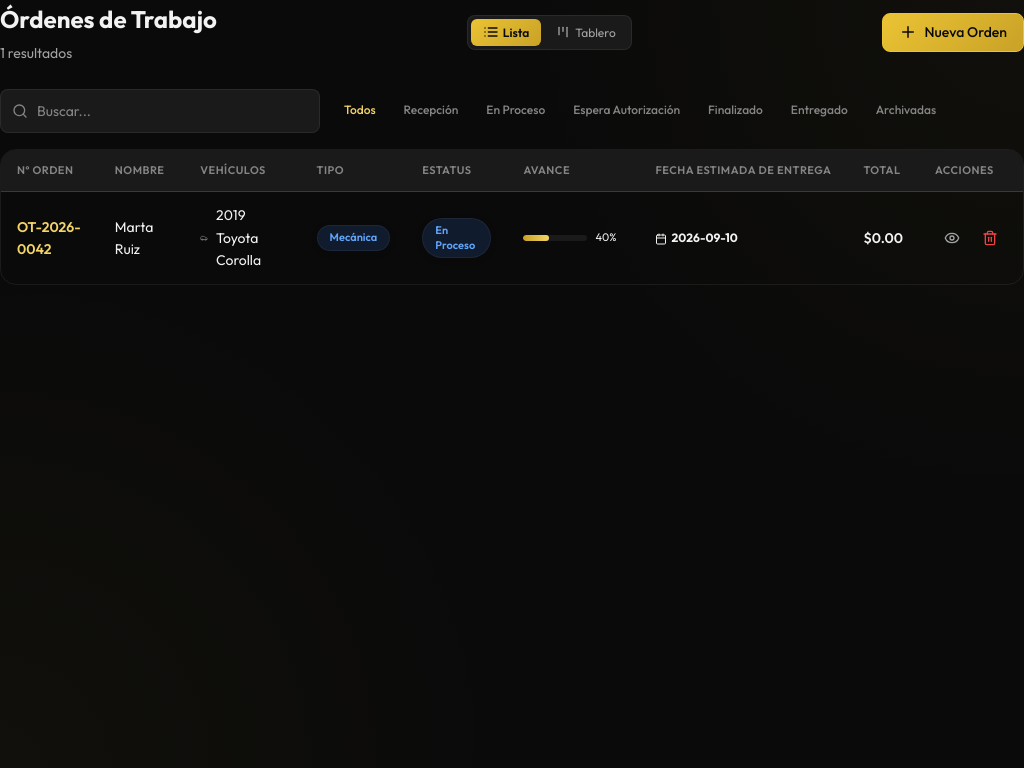
WorkOrders — inspección 360 en el alta › ofrece foto, video, nota de voz y galería antes de crear la orden
Click the button "Nueva Orden" at (953, 32), box [882, 13, 1023, 52]
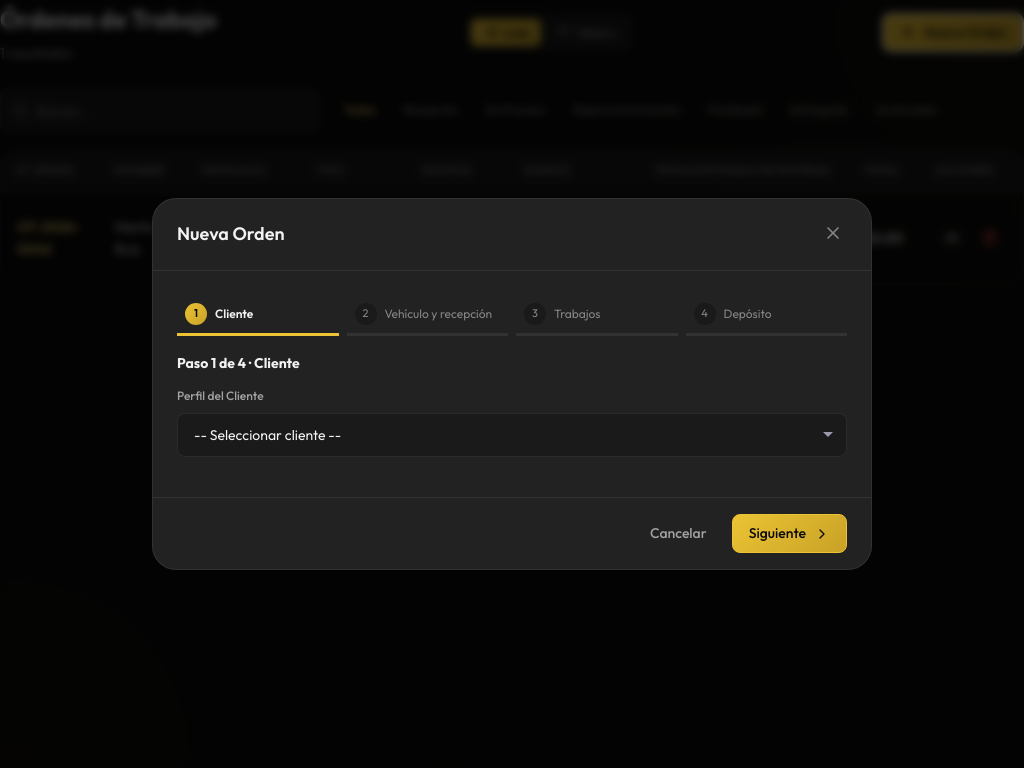
Select "Marta Ruiz" in the dropdown with id "intake-customer" at (512, 435), box [177, 413, 847, 457]
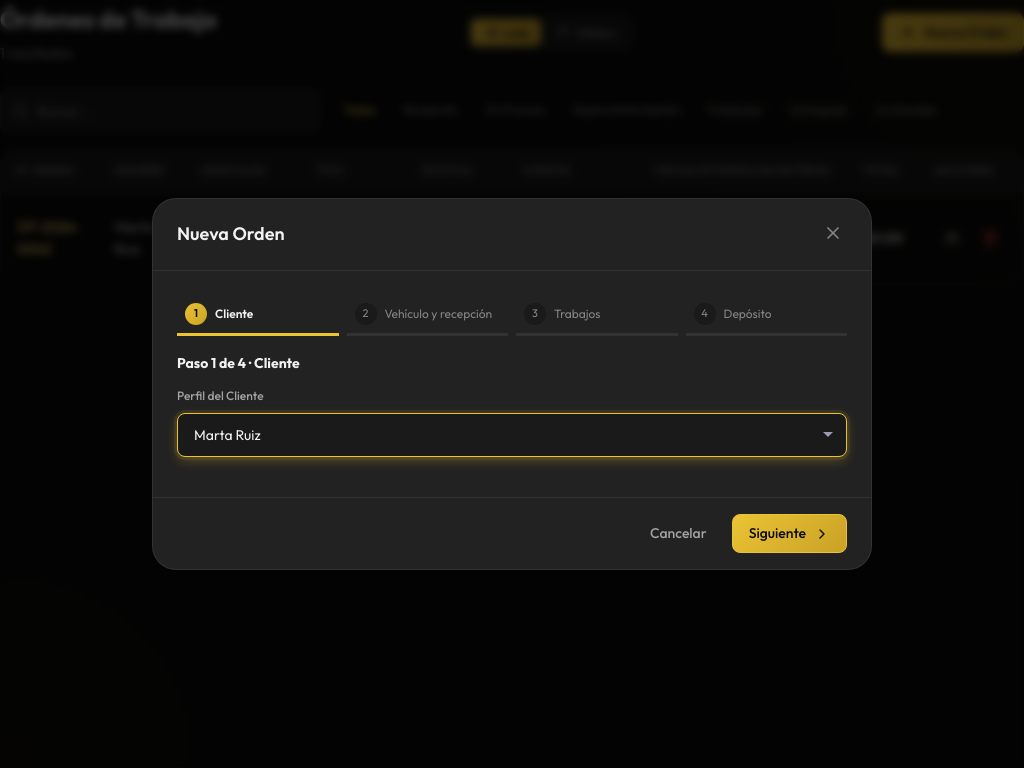
Click the button "Siguiente" at (789, 534), box [732, 514, 847, 553]
(page scrolled)
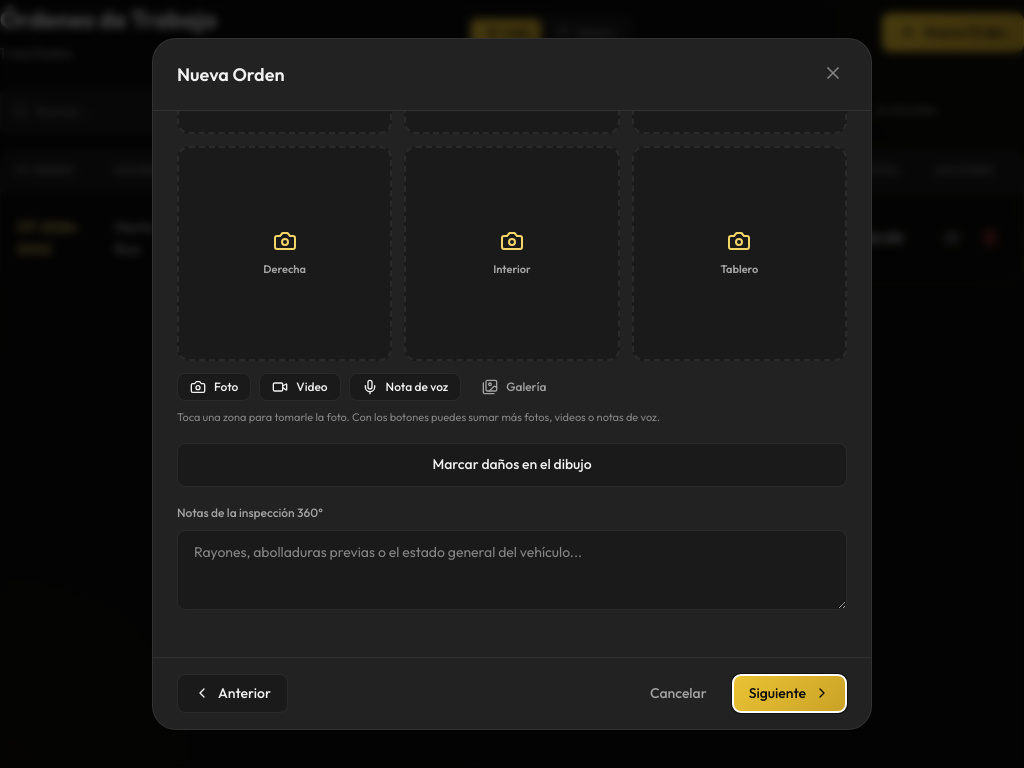
Expected: the button "Foto" is shown, [177, 373, 251, 401]
Expected: the button "Video" is shown, [259, 373, 341, 401]
Expected: the button "Nota de voz" is shown, [349, 373, 461, 401]
